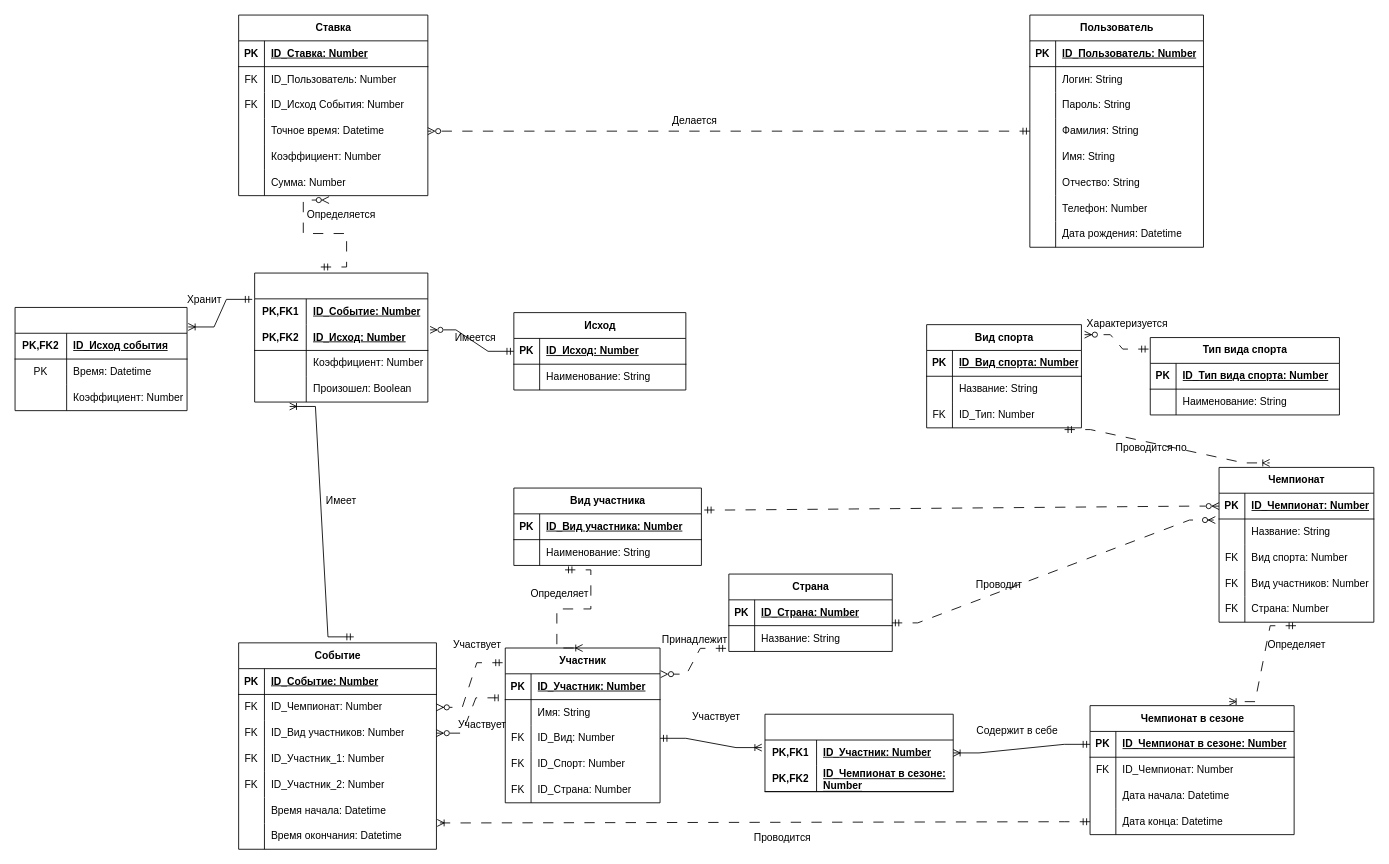
Image size: 1389x864. Some labels were removed from this diagram. Here are the shapes that lost their labels. From the top down, the box of each, then its label:
(254, 272, 428, 402): Исход события
(14, 307, 187, 411): История коэффициентов
(764, 713, 953, 792): Участие в чемпионате
